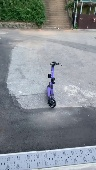beam: (45, 60, 62, 109)
